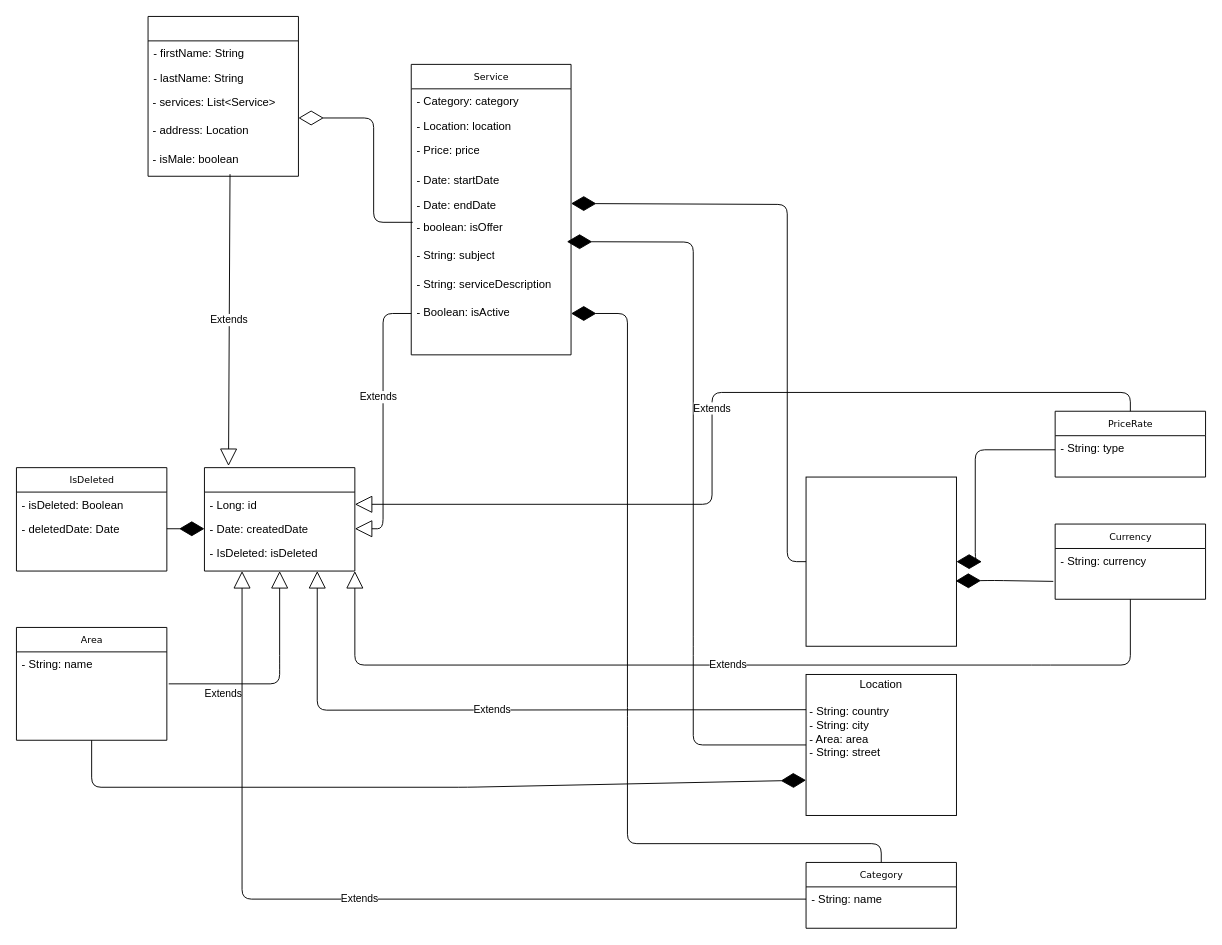
The diagram is 1222 pixels wide and 945 high, and some of its shapes have lost their labels. The box of each missing label's shape, as (x1, y1, x2, y2) in pixels:
CommonProperties: (204, 467, 355, 571)
Price - double: price - Currency: currenvy - PriceRate: priceRate: (805, 476, 956, 646)
User: (147, 16, 298, 176)
